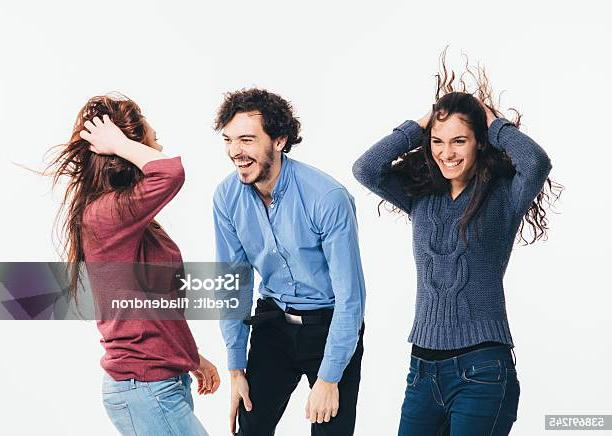long sleeve shirt: (211, 151, 365, 382), (78, 155, 202, 382)
sweater: (352, 116, 554, 354)
trousers: (235, 296, 369, 436), (396, 345, 521, 436), (99, 370, 217, 436)
